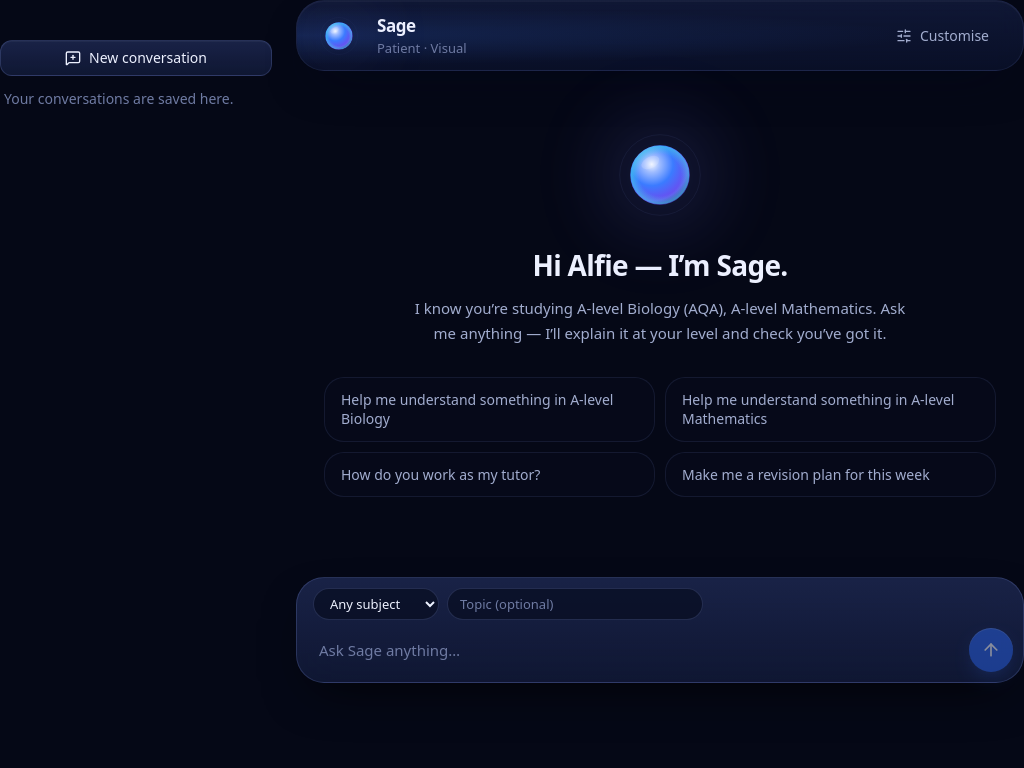
Scenario: Tutor workspace › gives the message back and explains when the tutor can't reply
Step 1. Type "Help" into the text box named "Message Sage" → [634, 650], box [307,628,961,672]
Then press Enter
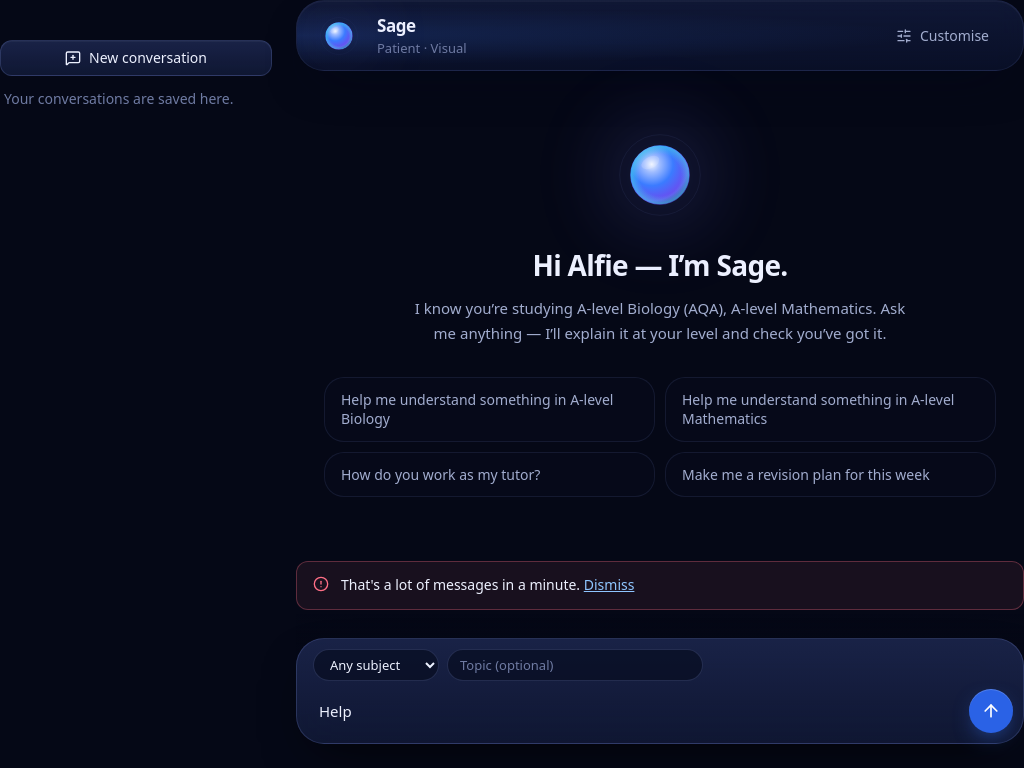
Now the message shows "That's a lot of messages in a minute.", box [341,575,580,594]
